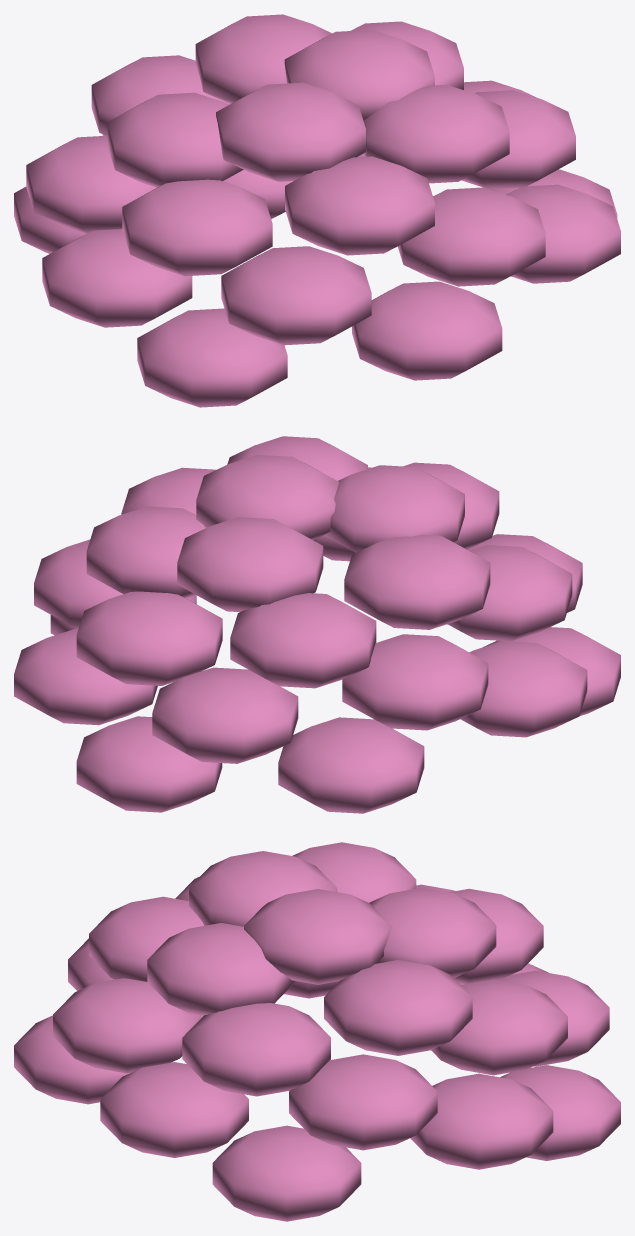
File: flower-cluster.glb
3 views of the same model, one above another, from view 1: azimuth 30°, elevation 25°; view 2: azimuth 150°, elevation 25°; view 3: azimuth 270°, elevation 25° (orthographic). The views are drawn at different scales.
Parts seen in each view (by area): view 1: tint-surface; view 2: tint-surface; view 3: tint-surface.
Boxes of the visible parts, bbox=[...] form: tint-surface: bbox=[14, 14, 620, 407]; tint-surface: bbox=[14, 436, 620, 813]; tint-surface: bbox=[14, 842, 620, 1221].
Bounding box in the file's own units: 1.08 × 0.485 × 1.09.
